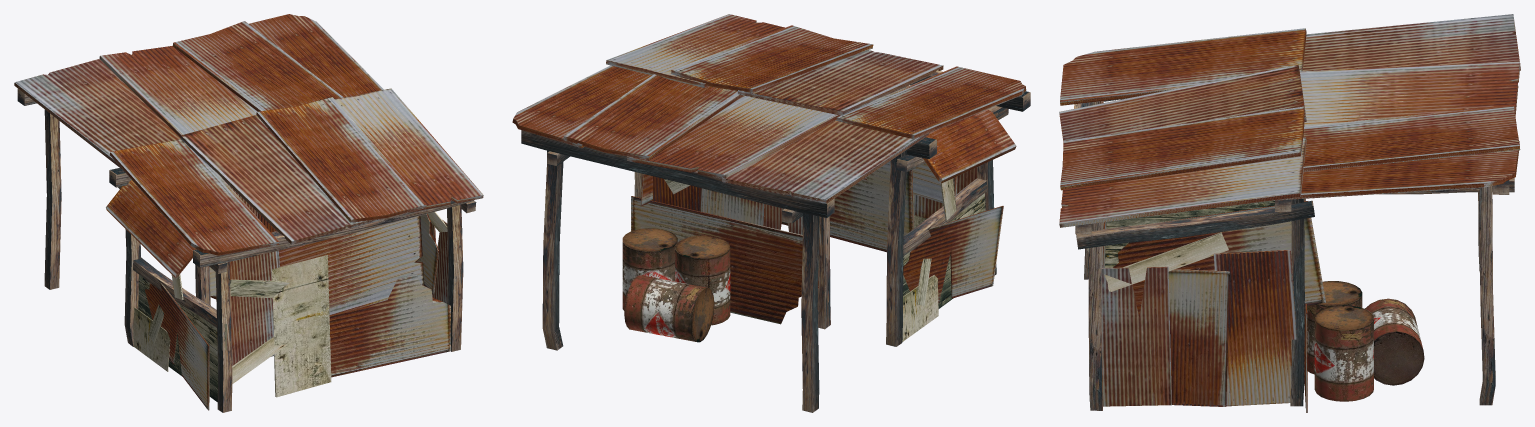
File: shack_open.glb
3 views of the same model, side by side, from view 1: azimuth 30°, elevation 25°; view 2: azimuth 150°, elevation 25°; view 3: azimuth 270°, elevation 25° (orthographic). The views are drawn at different scales.
Parts seen in each view (by area): view 1: pCube1_lambert2_0, pCube4_lambert4_0, pasted__pCube3_pasted__lambert3_0, pasted__pasted__pasted__pCube2_pasted__pasted__pasted__lambe; view 2: pCube1_lambert2_0, pCube4_lambert4_0, pCylinder1_lambert5_0, pasted__pCube3_pasted__lambert3_0; view 3: pCube1_lambert2_0, pCube4_lambert4_0, pCylinder1_lambert5_0, pasted__pasted__pasted__pCube2_pasted__pasted__pasted__lambe, pasted__pCube3_pasted__lambert3_0.
Boxes of the visible parts, x1,y1,x2,y2 form: pCube1_lambert2_0: [14, 14, 483, 410]; pCube4_lambert4_0: [17, 88, 476, 412]; pasted__pCube3_pasted__lambert3_0: [133, 211, 447, 401]; pasted__pasted__pasted__pCube2_pasted__pasted__pasted__lambe: [430, 220, 448, 303]; pCube1_lambert2_0: [512, 14, 1026, 324]; pCube4_lambert4_0: [521, 18, 1030, 412]; pCylinder1_lambert5_0: [622, 228, 730, 342]; pasted__pCube3_pasted__lambert3_0: [664, 178, 985, 341]; pCube1_lambert2_0: [1059, 14, 1520, 412]; pCube4_lambert4_0: [1074, 98, 1514, 410]; pCylinder1_lambert5_0: [1307, 281, 1424, 401]; pasted__pasted__pasted__pCube2_pasted__pasted__pasted__lambe: [1101, 266, 1171, 406]; pasted__pCube3_pasted__lambert3_0: [1087, 200, 1274, 291].
Size of the model in its own units: 0.0259 by 0.0176 by 0.0294.
Materials: 5 (5 with a texture image).
